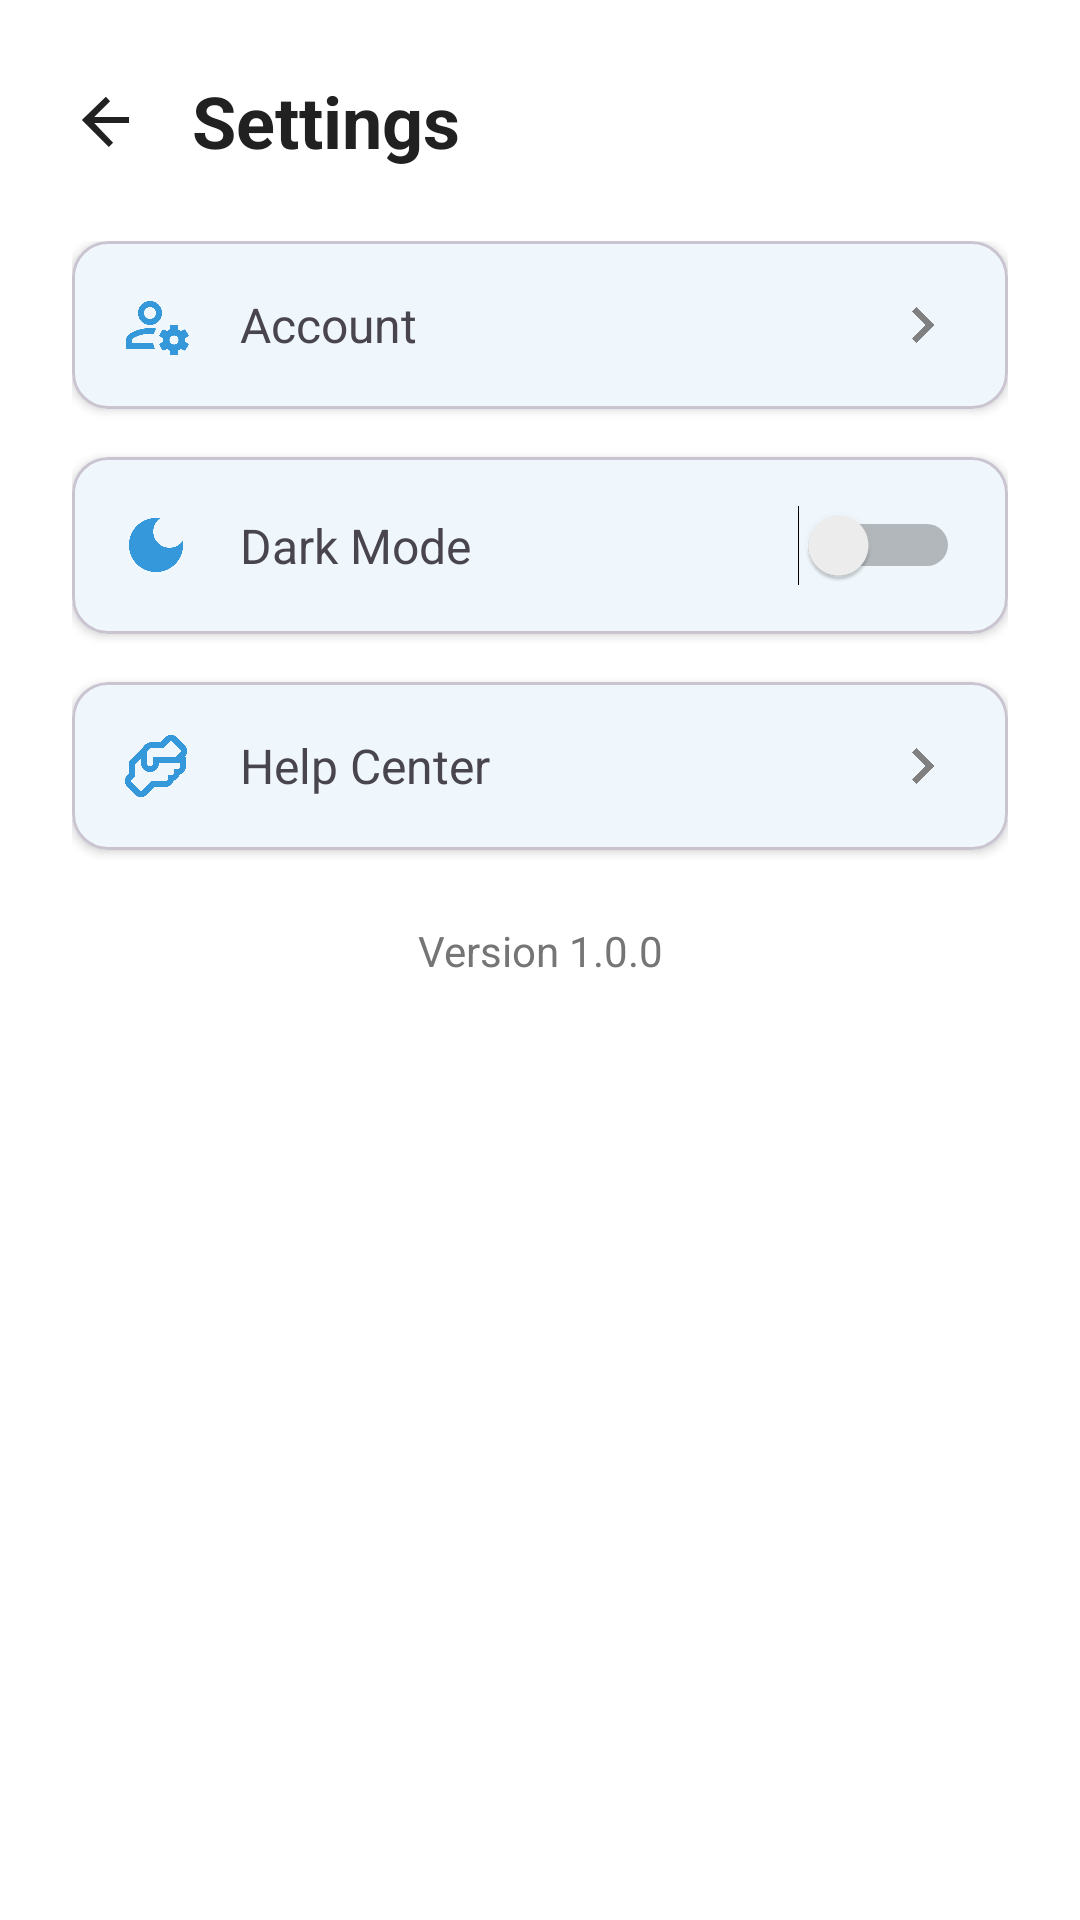

Where to tap for icons on this 1080×1920 app screen, as (x=x, y=y):
appearance: (x=156, y=545)
Back: (x=105, y=122)
chevron right: (x=923, y=325), (x=923, y=766)
